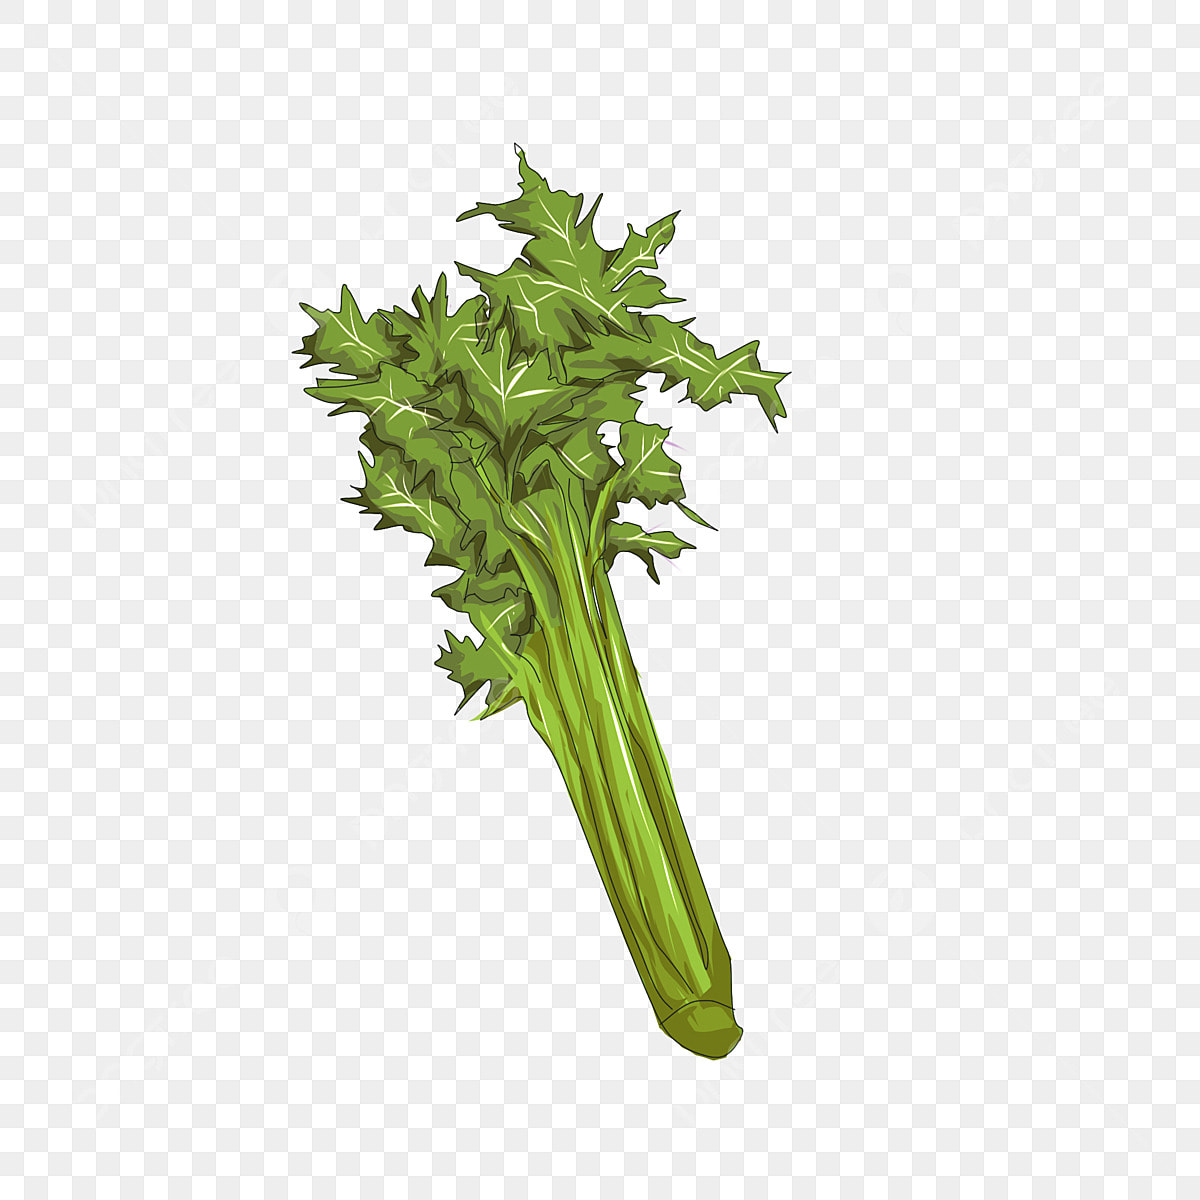Seledri: (307, 156, 840, 1125)
